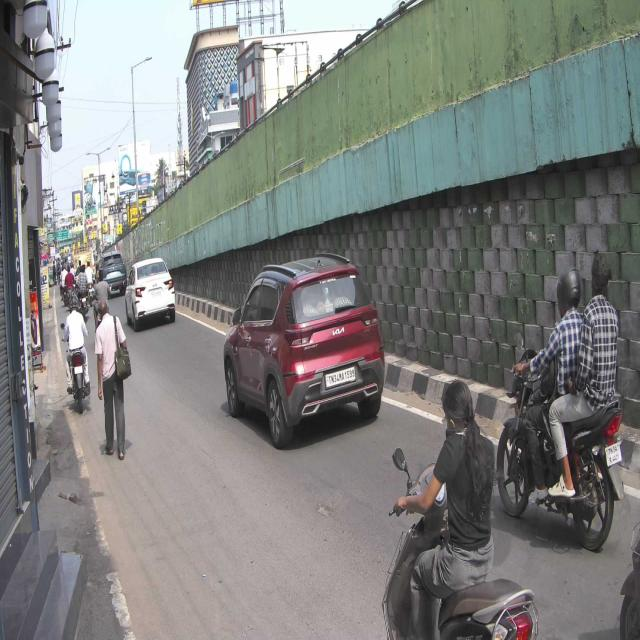double_rider: (497, 252, 625, 550)
single_rider: (381, 375, 494, 640)
